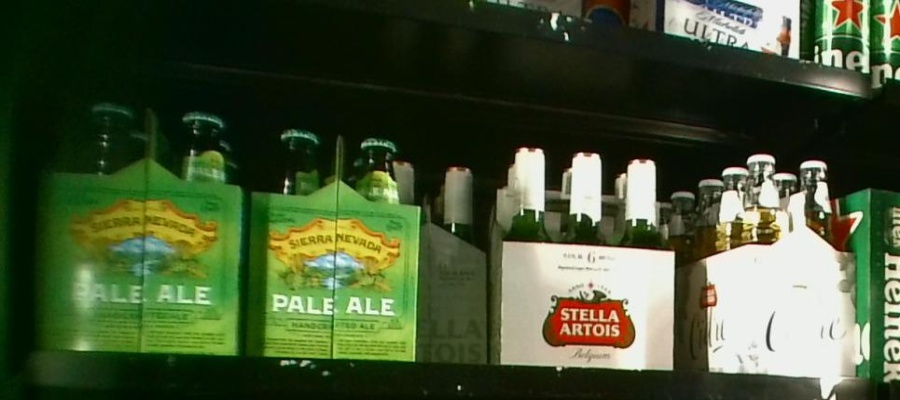bottle: (38, 94, 243, 356), (243, 127, 425, 363), (491, 147, 678, 370), (672, 156, 856, 378)
